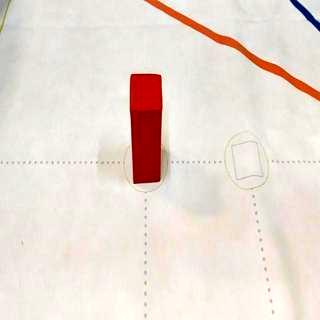redbox: (129, 72, 164, 184)
